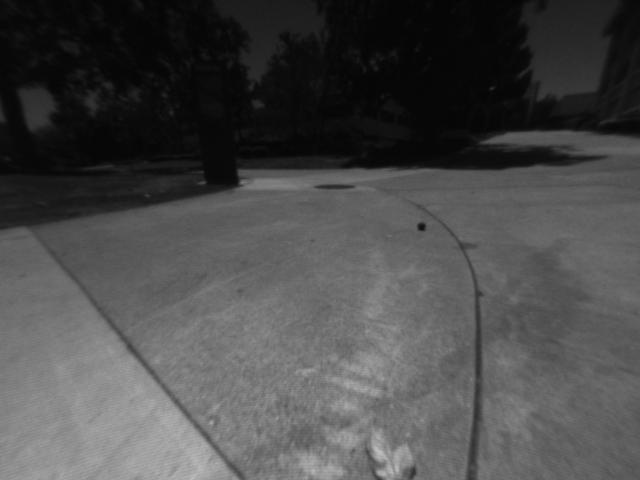dogtoy: (414, 216, 433, 235)
